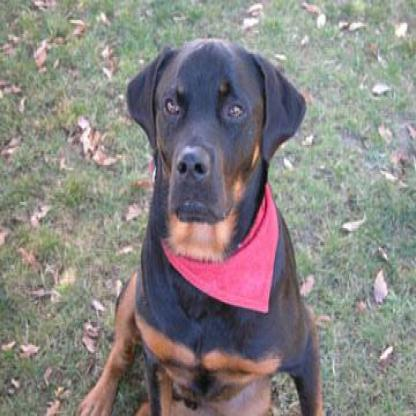Rottweiler: (72, 34, 324, 413)
